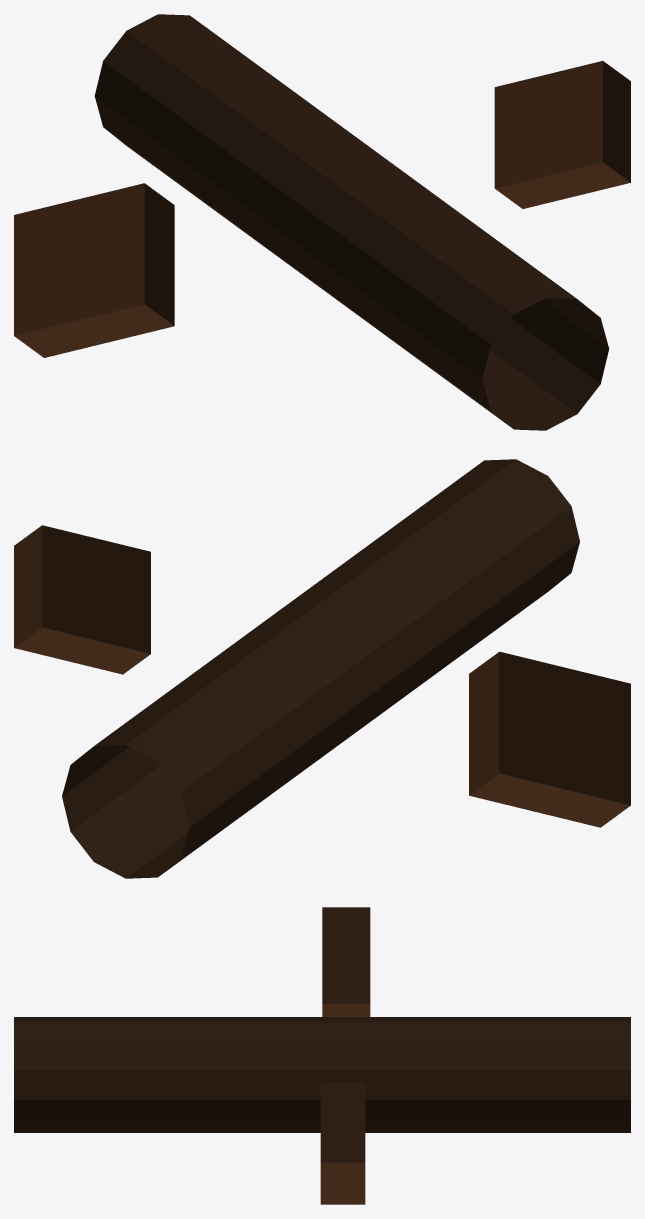
File: SM_CommonFallenLog.obj
3 renders of one model, top to bottom at view 1: azimuth 30°, elevation 25°; view 2: azimuth 150°, elevation 25°; view 3: azimuth 270°, elevation 25°, orthographic. The views are drawn at different scales.
Parts seen in each view (by area): view 1: SM_CommonFallenLog; view 2: SM_CommonFallenLog; view 3: SM_CommonFallenLog.
Boxes of the visible parts, x1,y1,x2,y2 form: SM_CommonFallenLog: (14,14,630,430); SM_CommonFallenLog: (14,459,630,878); SM_CommonFallenLog: (14,907,630,1204).
Bounding box in the file's own units: 314 × 72 × 360.
